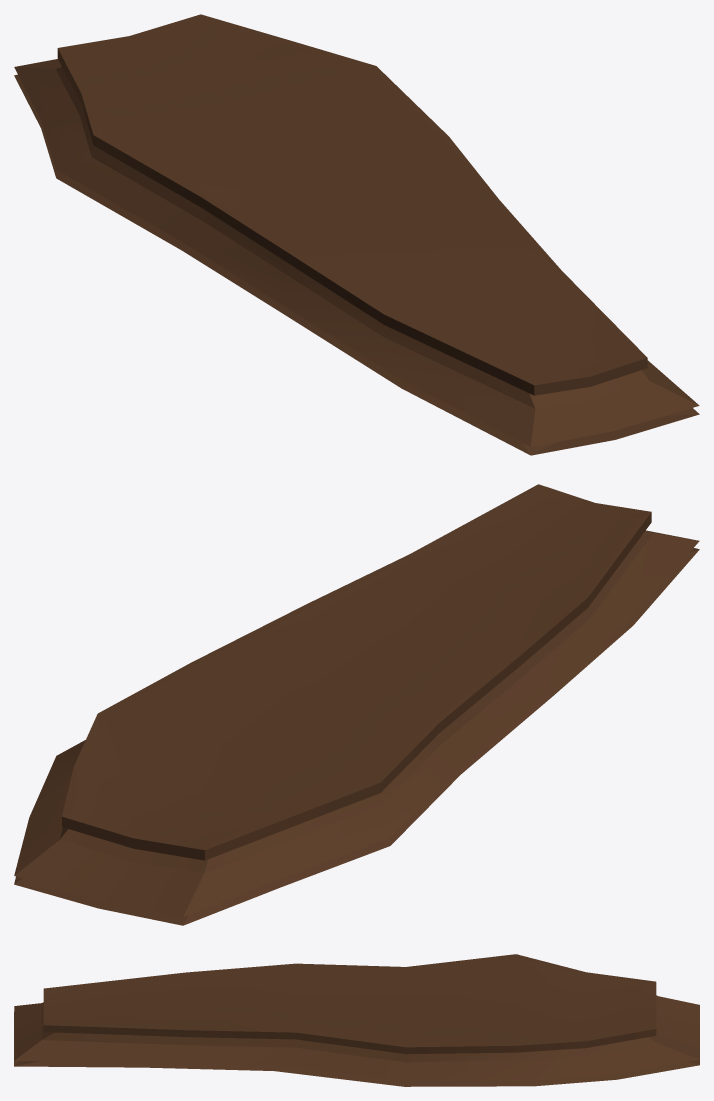
The model's file is CoffinLid.fbx.
3 renders of one model, top to bottom at view 1: azimuth 30°, elevation 25°; view 2: azimuth 150°, elevation 25°; view 3: azimuth 270°, elevation 25°, orthographic. The views are drawn at different scales.
Parts seen in each view (by area): view 1: Coffin_Open_Lid; view 2: Coffin_Open_Lid; view 3: Coffin_Open_Lid.
Part boxes in pixels (left/top/right/bottom): Coffin_Open_Lid: left=14, top=14, right=699, bottom=455; Coffin_Open_Lid: left=14, top=484, right=699, bottom=925; Coffin_Open_Lid: left=14, top=954, right=699, bottom=1086.
Bounding box in the file's own units: 6.97 × 1.25 × 18.67.
